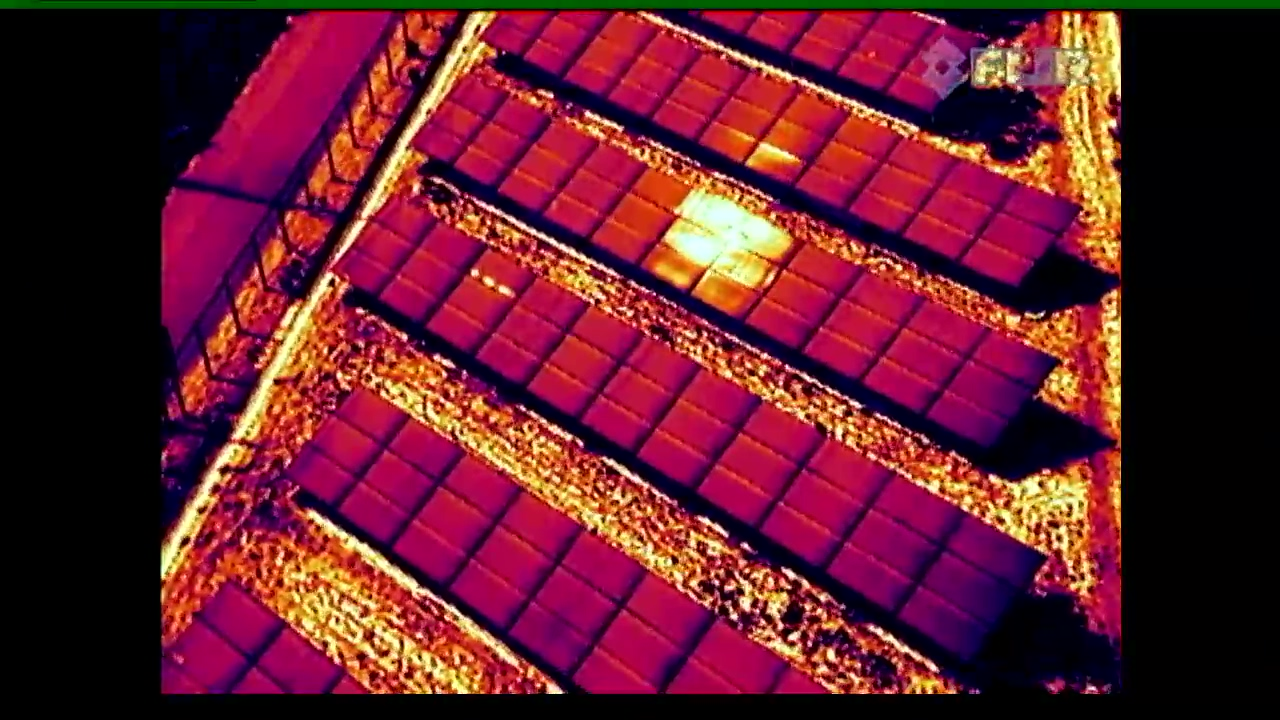hotspot: (426, 244, 534, 354)
